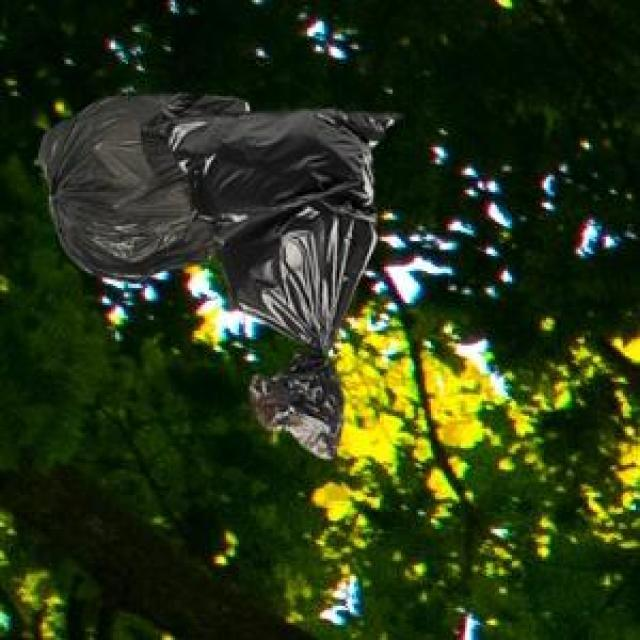Trashbag: (160, 108, 416, 466), (25, 87, 246, 281)
